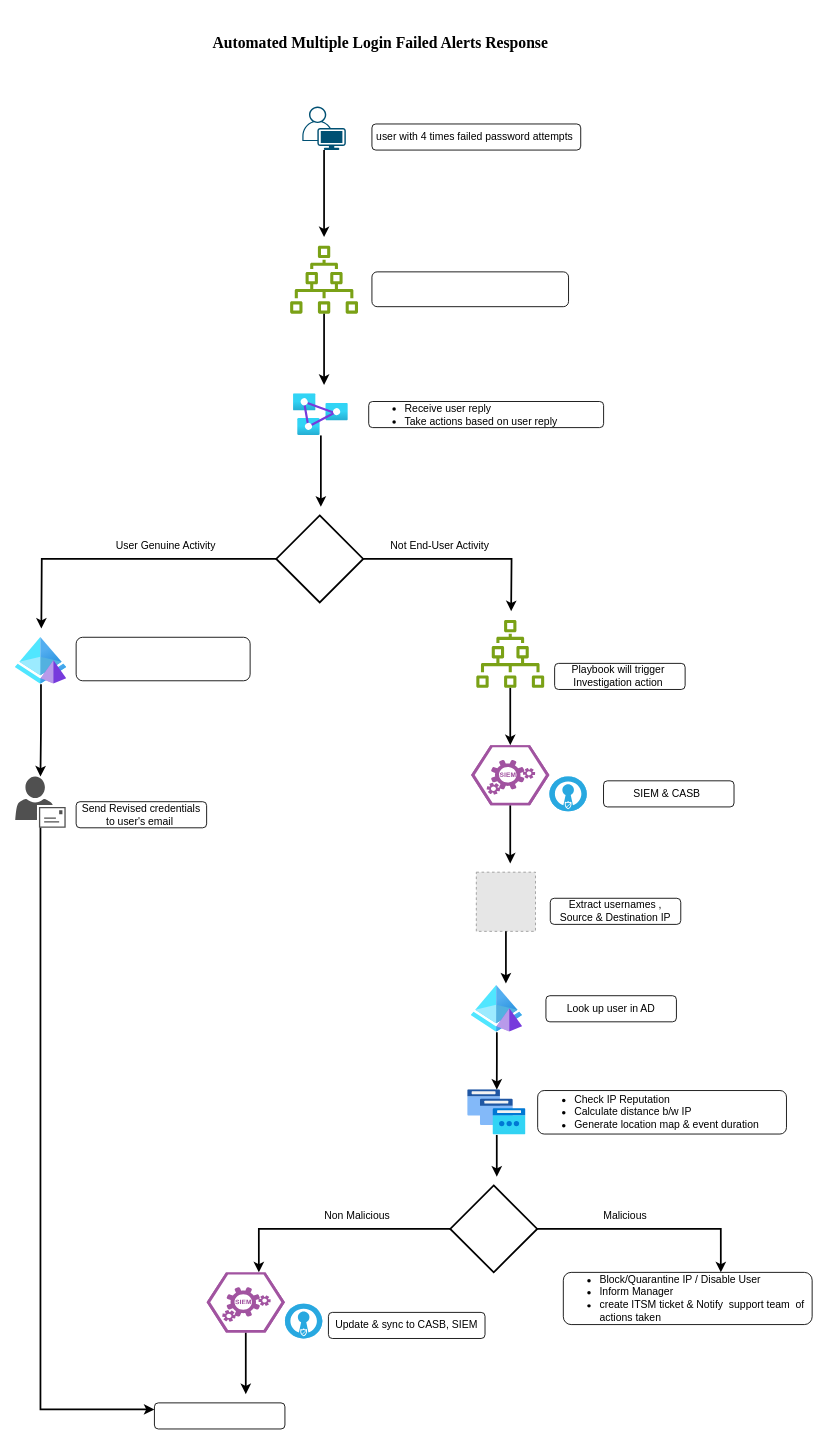
This 827x1444 diagram has some shape labels left out. Grey dashed boxes stand in for pictures. The centre of each missing label's shape, as x and y in pixels:
Close Playbook: the point at 219,1415
Expire /Forgotten Password Reset Password on AD: the point at 162,658
Notify Analyst: the point at 319,558
Notify Analyst check Malice: the point at 493,1228
Playbook trigger Email to user asking for password Reset: the point at 470,289
